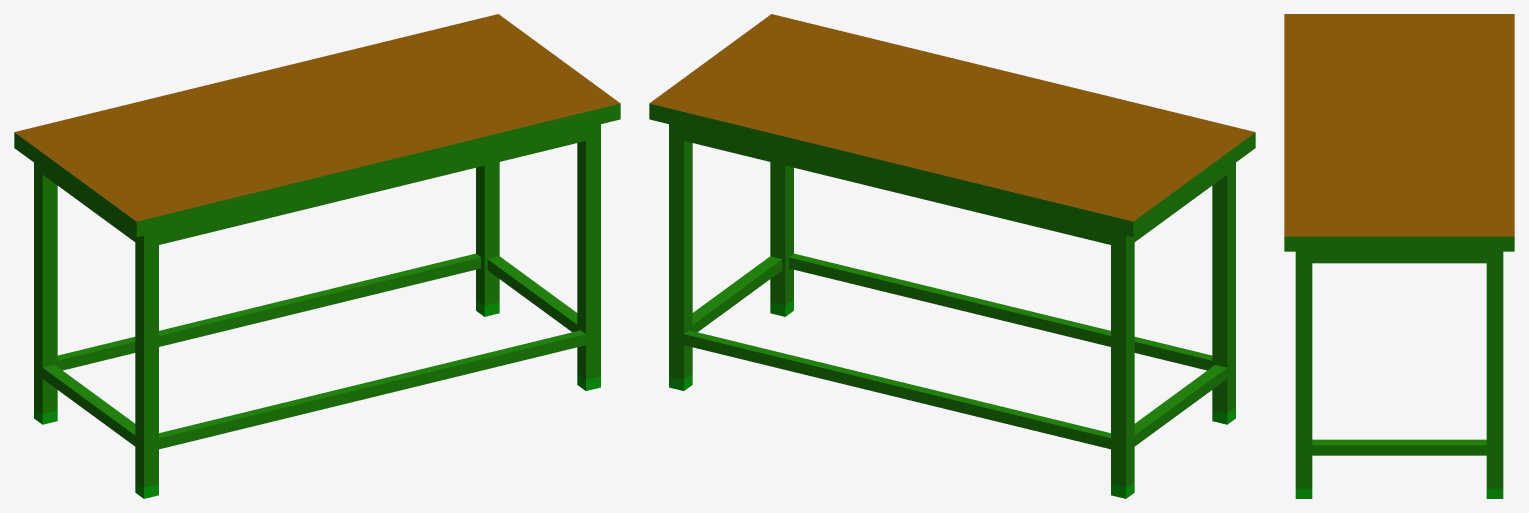
The model's file is SM_LSP_Workbench.fbx.
3 views of the same model, side by side, from view 1: azimuth 30°, elevation 25°; view 2: azimuth 150°, elevation 25°; view 3: azimuth 270°, elevation 25° (orthographic). The views are drawn at different scales.
Parts seen in each view (by area): view 1: SM_LSP_Workbench; view 2: SM_LSP_Workbench; view 3: SM_LSP_Workbench.
Boxes of the visible parts, left/top/right/bottom form: SM_LSP_Workbench: left=14, top=14, right=620, bottom=498; SM_LSP_Workbench: left=649, top=14, right=1255, bottom=498; SM_LSP_Workbench: left=1284, top=14, right=1514, bottom=498.
Size of what is drawn, in the model's own units: 160 by 70 by 90.
